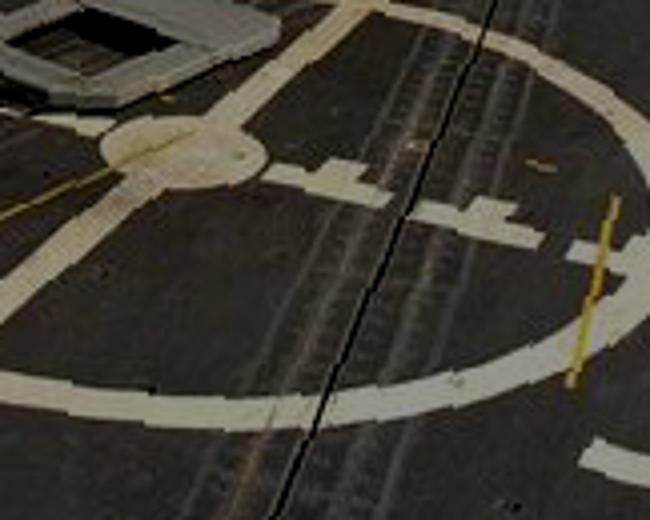Apron: (3, 7, 649, 432)
